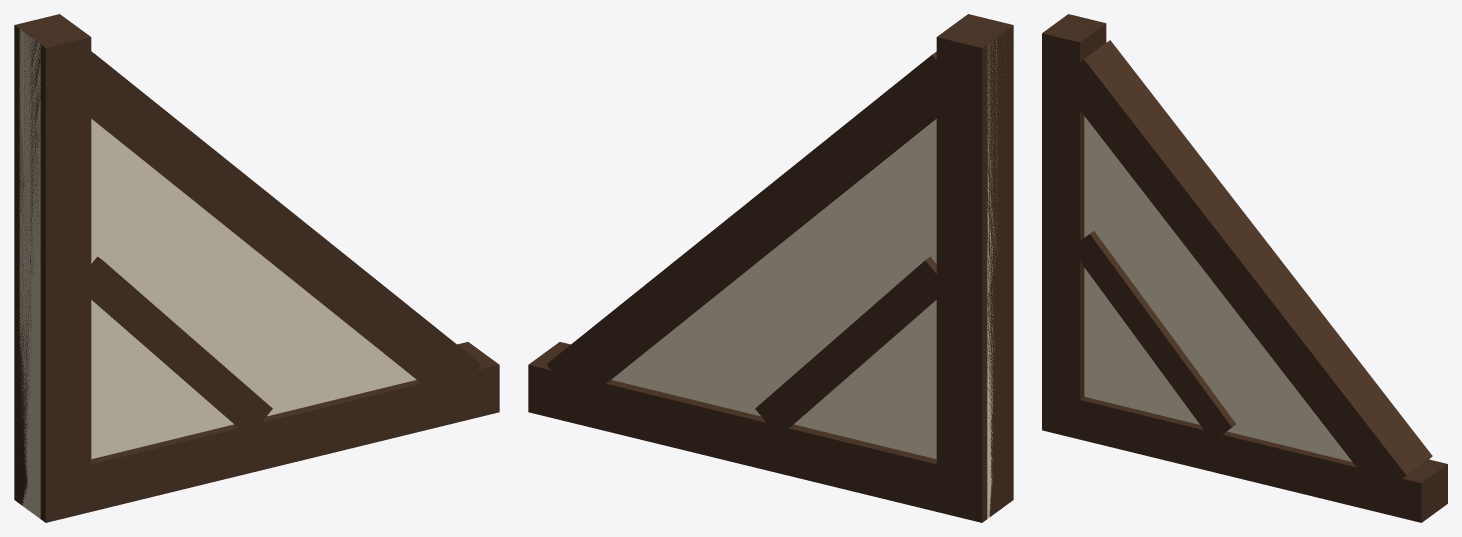
Rendered from gable_plaster_lod0.glb.
3 views of the same model, side by side, from view 1: azimuth 30°, elevation 25°; view 2: azimuth 150°, elevation 25°; view 3: azimuth 330°, elevation 25° (orthographic). The views are drawn at different scales.
Visible parts, largest first — view 1: gable_plaster; view 2: gable_plaster; view 3: gable_plaster.
Part boxes in pixels (<box>): gable_plaster: <box>14,14,499,522</box>; gable_plaster: <box>528,14,1013,522</box>; gable_plaster: <box>1042,14,1447,522</box>.
Bounding box in the file's own units: 2 × 2 × 0.24.
